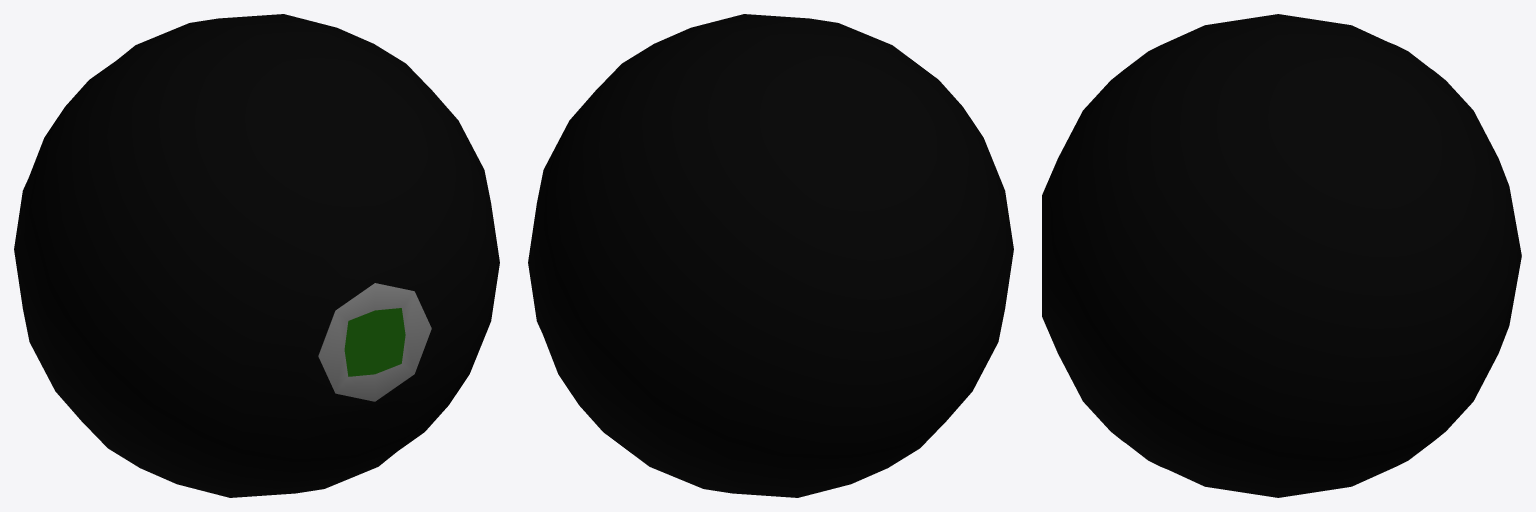
Rendered from OJO VIGILA.fbx.
3 views of the same model, side by side, from view 1: azimuth 30°, elevation 25°; view 2: azimuth 150°, elevation 25°; view 3: azimuth 270°, elevation 25° (orthographic).
Parts seen in each view (by area): view 1: Box006; view 2: Box006; view 3: Box006.
Boxes of the visible parts, x1,y1,x2,y2 form: Box006: (14,14,499,497); Box006: (528,14,1013,497); Box006: (1042,14,1521,497).
Bounding box in the file's own units: 20 × 19.7 × 20.
